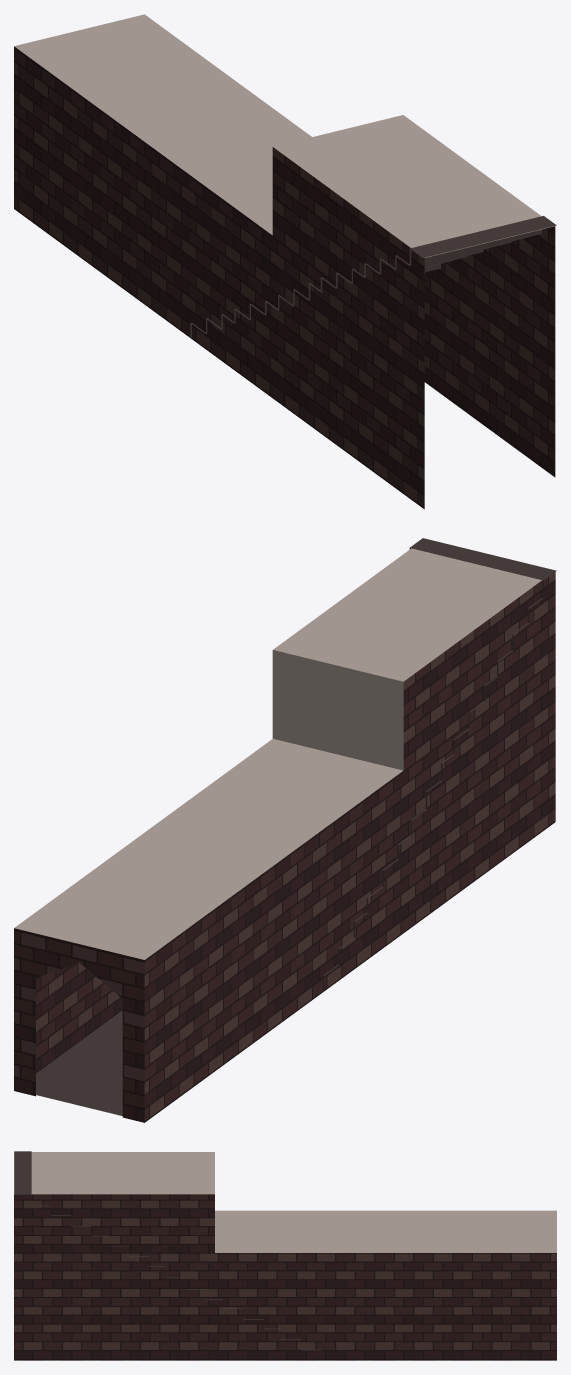
File: Hallway.fbx
The picture shows the model from 3 angles, top to bottom: view 1: azimuth 30°, elevation 25°; view 2: azimuth 150°, elevation 25°; view 3: azimuth 270°, elevation 25°; orthographic projection. The views are drawn at different scales.
Visible parts, largest first — view 1: Hallway_Walls, Hallway_Ceiling, Hallway_Stairs; view 2: Hallway_Walls, Hallway_Ceiling, Hallway_Floor, Hallway_Stairs; view 3: Hallway_Walls, Hallway_Ceiling, Hallway_Stairs.
Part boxes in pixels (<box>): Hallway_Walls: <box>14,46,555,509</box>; Hallway_Ceiling: <box>14,14,554,257</box>; Hallway_Stairs: <box>190,216,556,337</box>; Hallway_Walls: <box>14,572,555,1122</box>; Hallway_Ceiling: <box>14,548,541,959</box>; Hallway_Floor: <box>36,1010,122,1115</box>; Hallway_Stairs: <box>323,538,556,990</box>; Hallway_Walls: <box>14,1194,556,1360</box>; Hallway_Ceiling: <box>14,1152,556,1252</box>; Hallway_Stairs: <box>14,1151,321,1350</box>.
Bounding box in the file's own units: 354 × 636 × 1881.
Materials: 3 (1 with a texture image).
